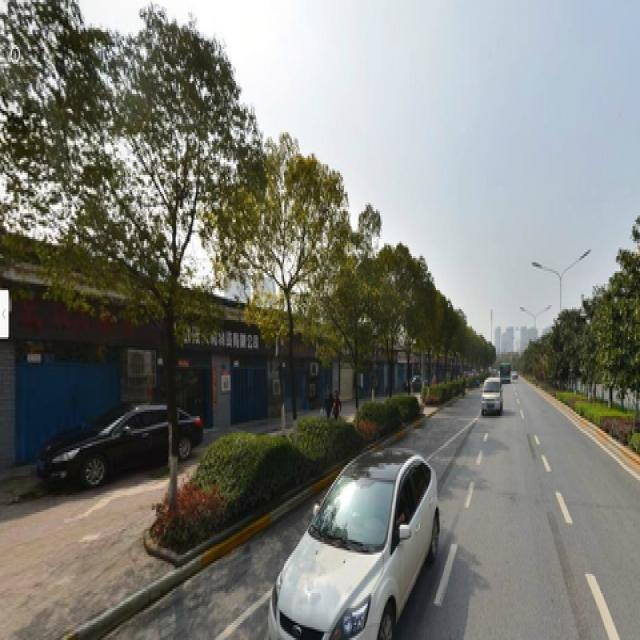cinn: (56, 28, 217, 488), (246, 147, 326, 425), (342, 226, 378, 410)
